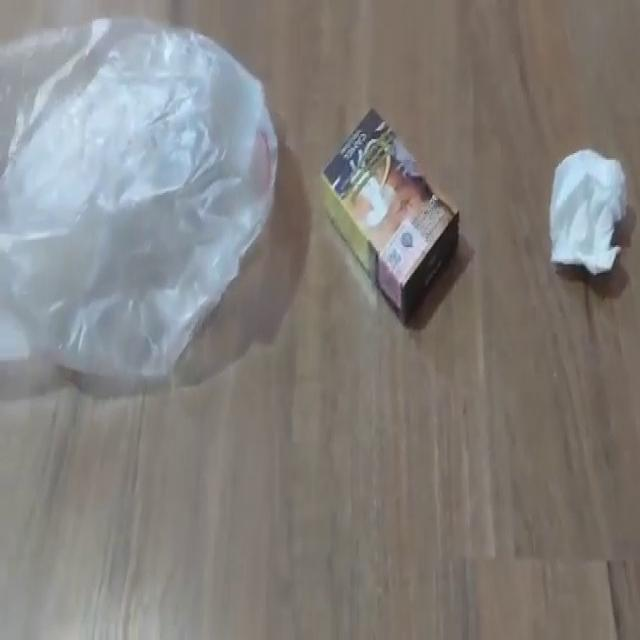Anorganik: (1, 5, 282, 388)
Organik: (317, 101, 461, 332), (548, 141, 630, 282)
